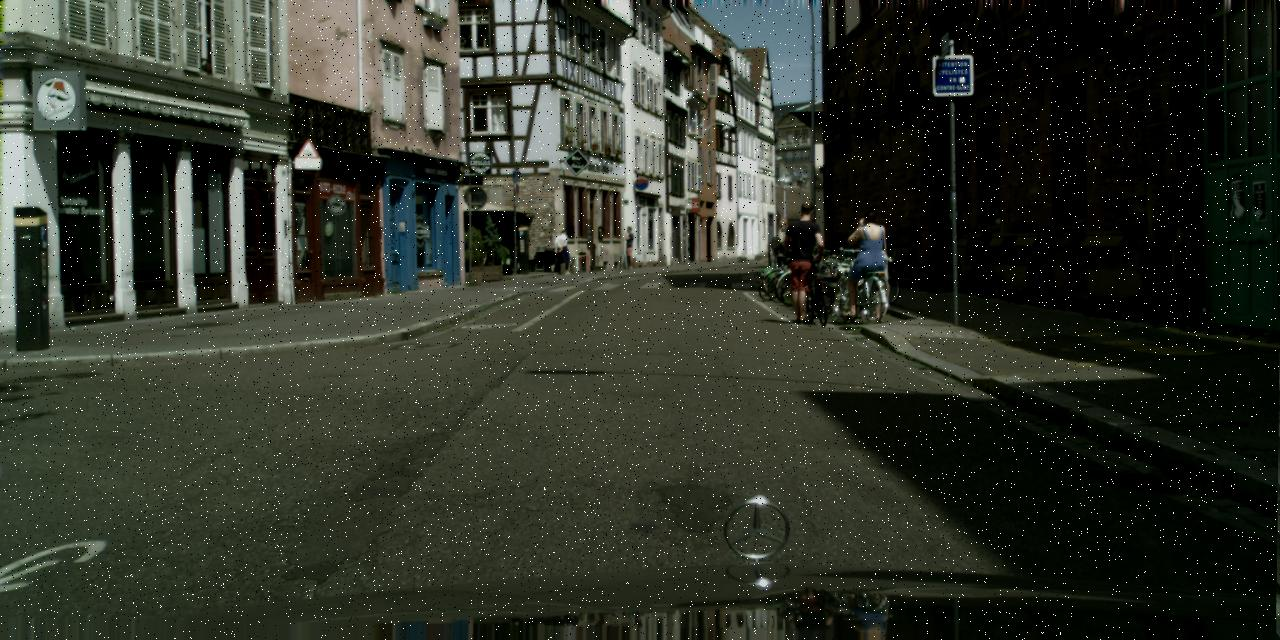ped: (778, 200, 828, 324), (845, 211, 889, 318), (552, 228, 570, 273), (620, 226, 638, 268)
